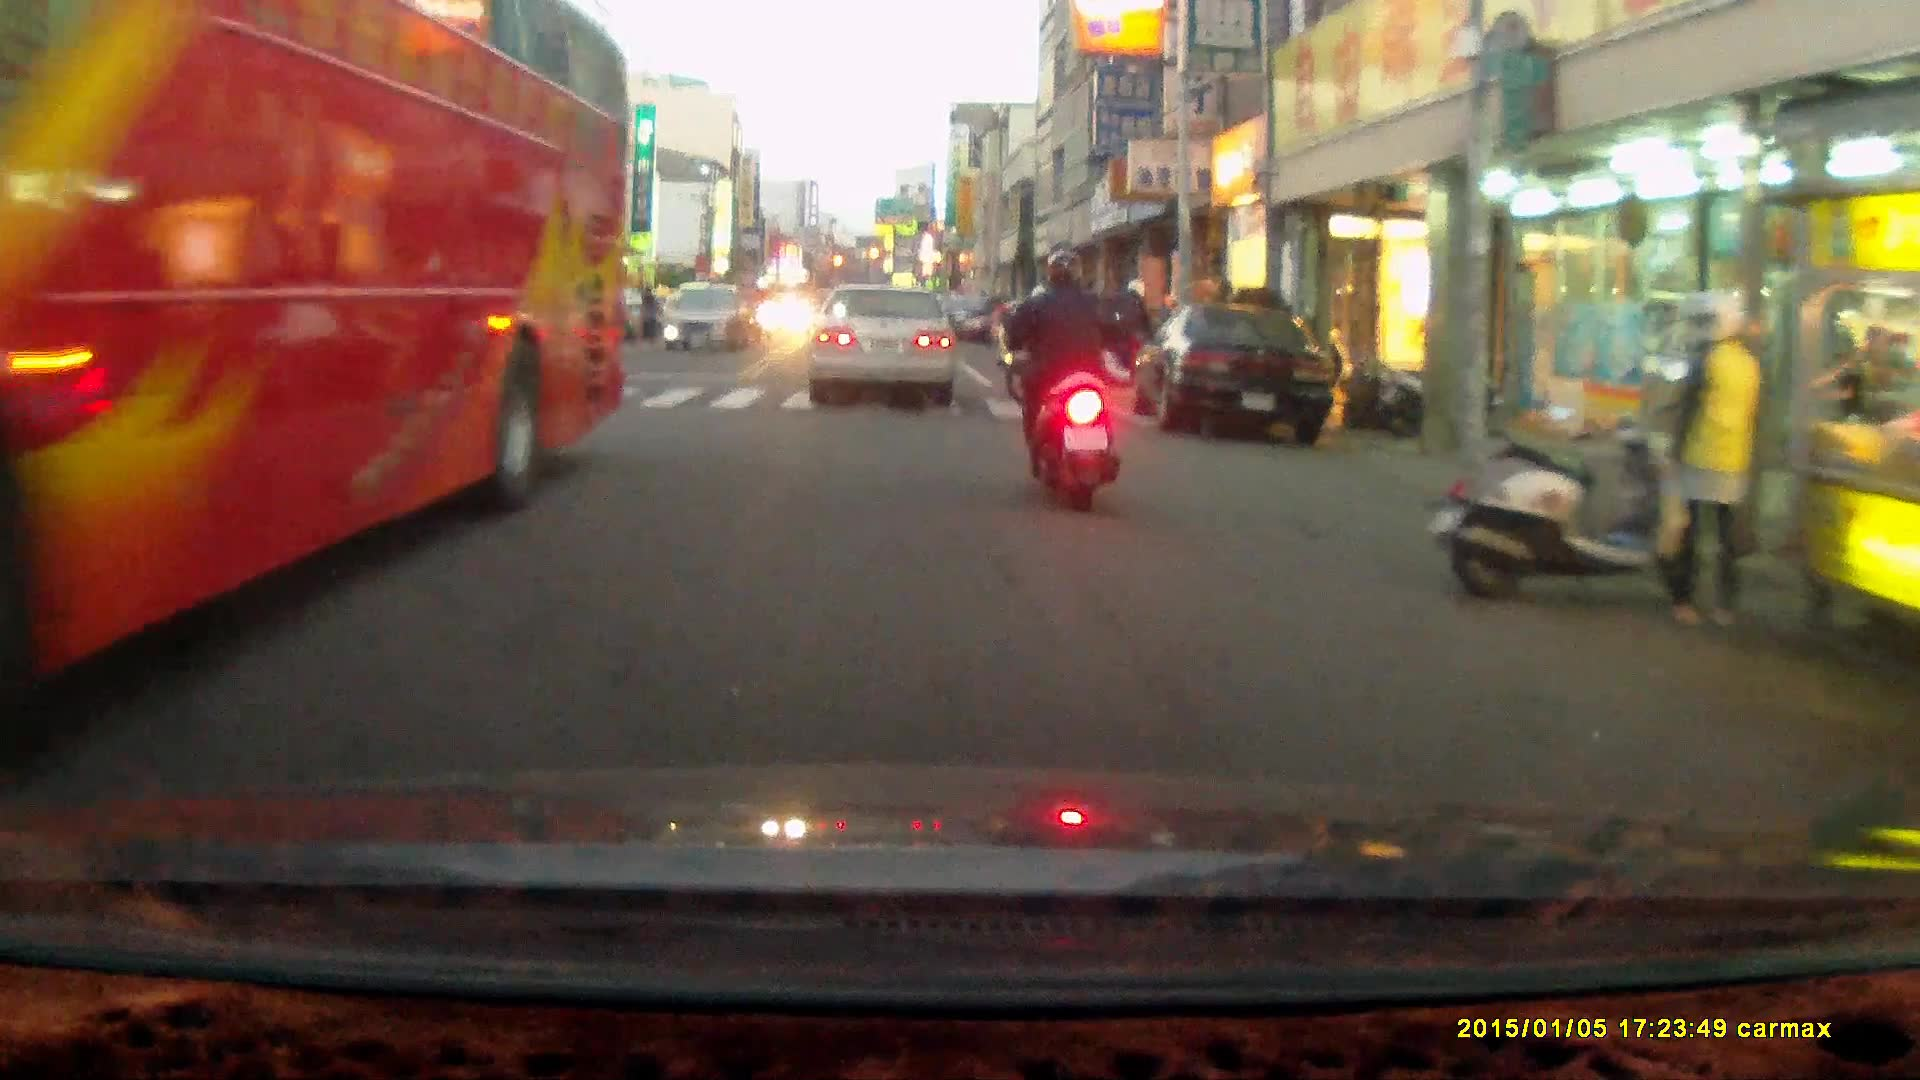pedestrian: (1656, 285, 1765, 632), (1119, 276, 1156, 394), (640, 279, 661, 343)
rider: (994, 244, 1119, 511)
vehicle: (1, 16, 635, 724), (1129, 302, 1347, 439), (809, 281, 959, 405), (659, 282, 755, 353)
